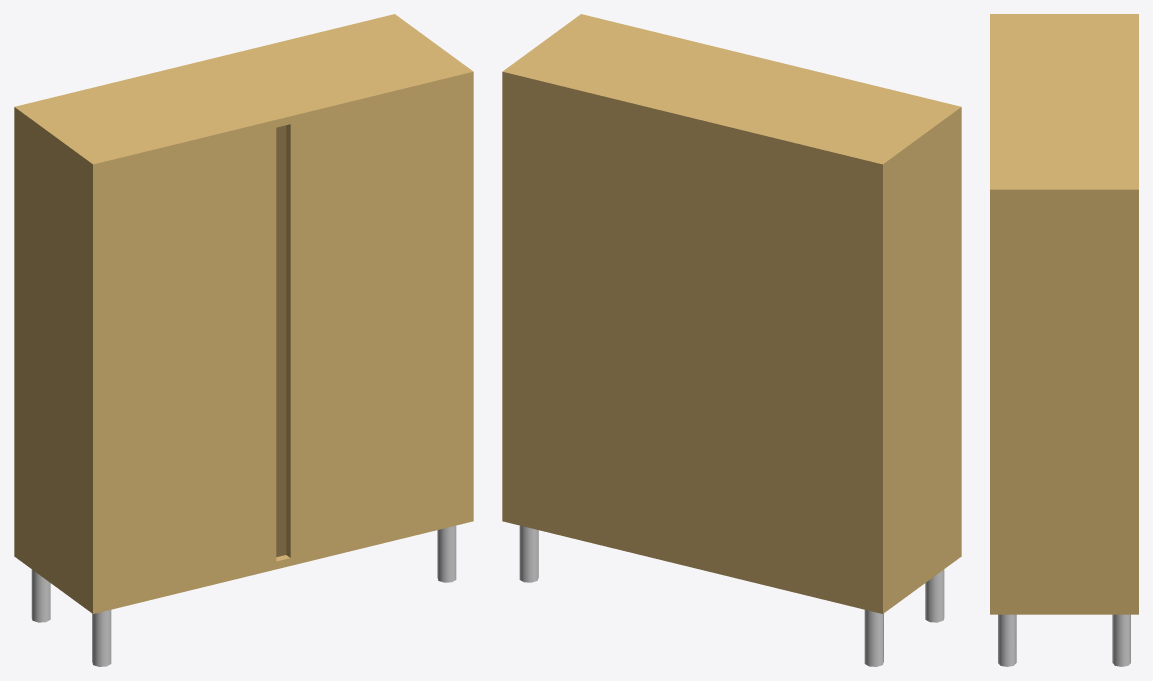
The model's file is wood_cabinet.glb.
The picture shows the model from 3 angles, left to right: view 1: azimuth 30°, elevation 25°; view 2: azimuth 150°, elevation 25°; view 3: azimuth 270°, elevation 25°; orthographic projection. The views are drawn at different scales.
Visible parts, largest first — view 1: wood cabinet; view 2: wood cabinet; view 3: wood cabinet.
Boxes of the visible parts, left/top/right/bottom form: wood cabinet: left=14, top=14, right=473, bottom=666; wood cabinet: left=502, top=14, right=961, bottom=666; wood cabinet: left=990, top=14, right=1138, bottom=666.
Bounding box in the file's own units: 0.6666 × 0.8528 × 0.239.
